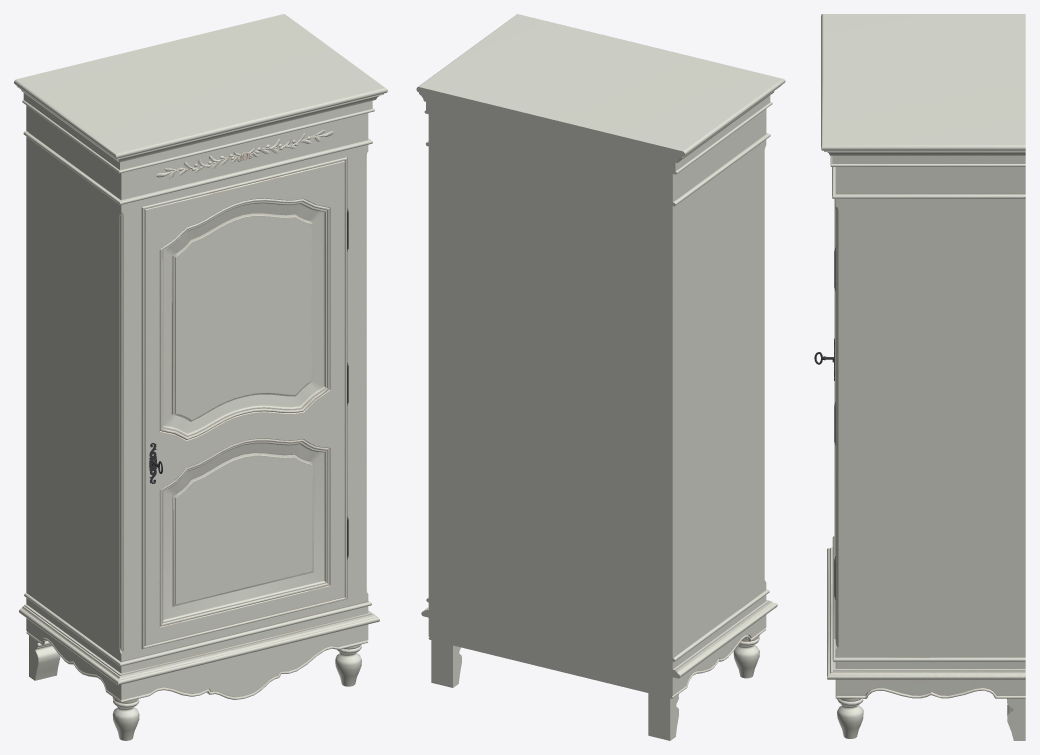
File: example147.glb
The picture shows the model from 3 angles, left to right: view 1: azimuth 30°, elevation 25°; view 2: azimuth 150°, elevation 25°; view 3: azimuth 270°, elevation 25°; orthographic projection.
Visible parts, largest first — view 1: PPAS.paint; view 2: PPAS.paint; view 3: PPAS.paint, PPAS.metal_PPAS.001.
Part boxes in pixels (x1,y1,x2,y2): PPAS.paint: (14, 14, 387, 740); PPAS.paint: (416, 14, 785, 740); PPAS.paint: (821, 14, 1025, 740); PPAS.metal_PPAS.001: (814, 247, 835, 599).
Size of the model in its own units: 0.98 by 2.07 by 0.6566.
Materials: 2 (2 with a texture image).
